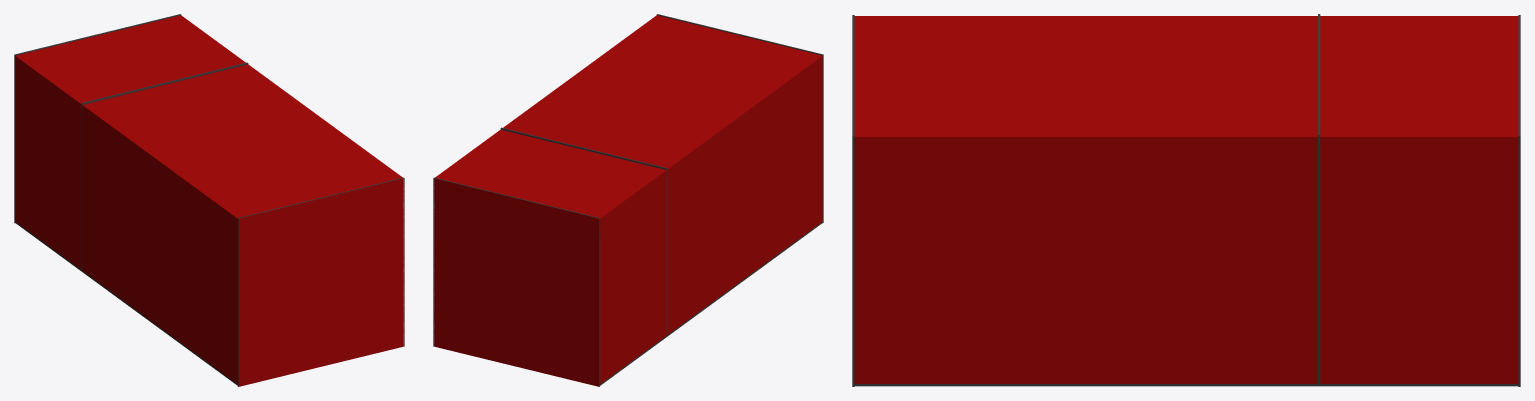
File: kuehlschrank.fbx
The picture shows the model from 3 angles, left to right: view 1: azimuth 30°, elevation 25°; view 2: azimuth 150°, elevation 25°; view 3: azimuth 270°, elevation 25°; orthographic projection. The views are drawn at different scales.
Visible parts, largest first — view 1: Cube.001; view 2: Cube.001; view 3: Cube.001.
Boxes of the visible parts, x1,y1,x2,y2 form: Cube.001: (14,14,404,386); Cube.001: (433,14,823,386); Cube.001: (852,14,1520,386).
Bounding box in the file's own units: 1.2 × 1.2 × 2.81.
Materials: 1 (1 with a texture image).
